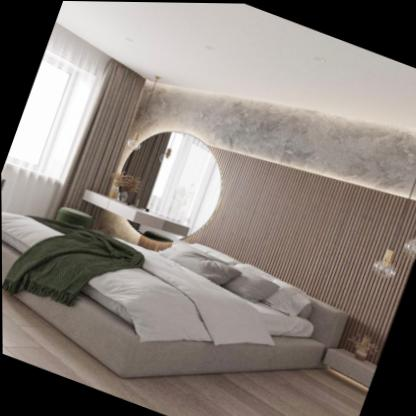Bed: (1, 212, 347, 379)
Curtains: (45, 59, 144, 217)
Wall Panel: (97, 78, 416, 330)
Wooden floor: (2, 291, 366, 416)
